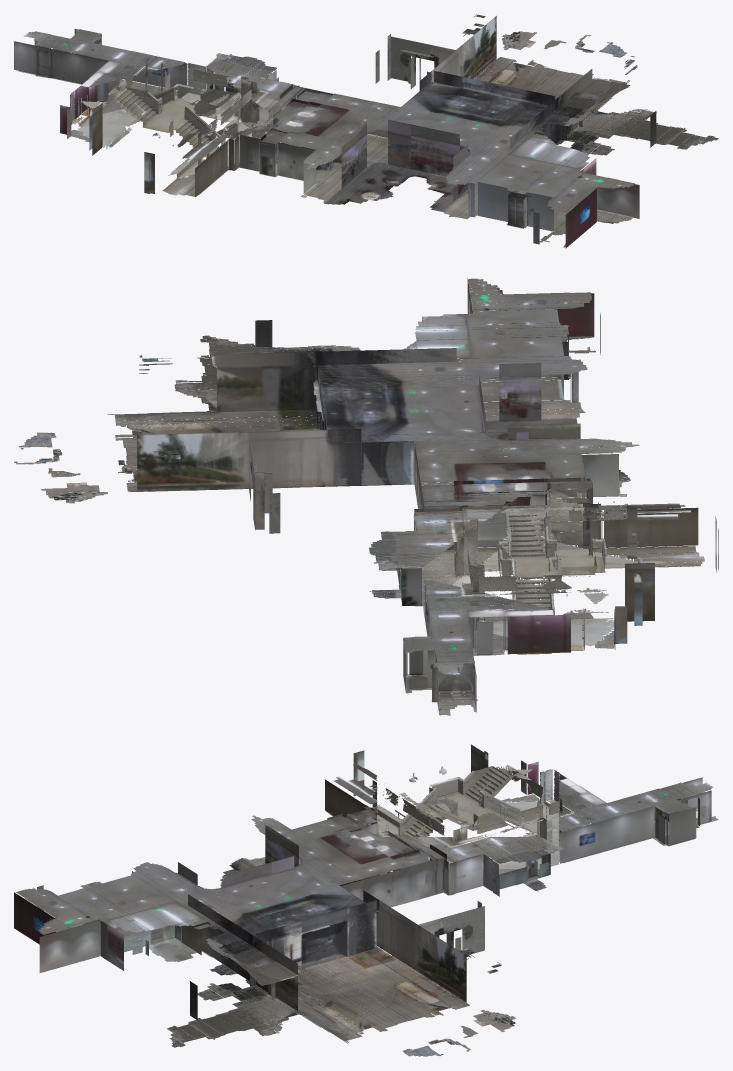
3 renders of one model, top to bottom at view 1: azimuth 30°, elevation 25°; view 2: azimuth 150°, elevation 25°; view 3: azimuth 270°, elevation 25°, orthographic. The views are drawn at different scales.
Visible parts, largest first — view 1: structure_p0, stairwell_measured; view 2: structure_p0, stairwell_measured; view 3: structure_p0, stairwell_measured.
Part boxes in pixels (x1,y1,x2,y2): structure_p0: (14, 14, 718, 248); stairwell_measured: (70, 61, 276, 178); structure_p0: (14, 278, 718, 715); stairwell_measured: (422, 498, 668, 651); structure_p0: (14, 744, 718, 1056); stairwell_measured: (376, 765, 559, 869).
Size of the model in its own units: 43.17 by 4 by 48.31.
Materials: 1 (1 with a texture image).
